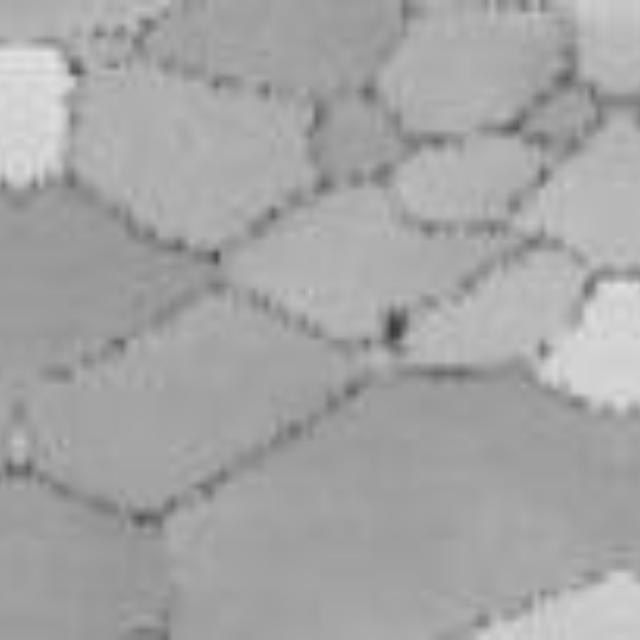good_void: (376, 300, 416, 359)
